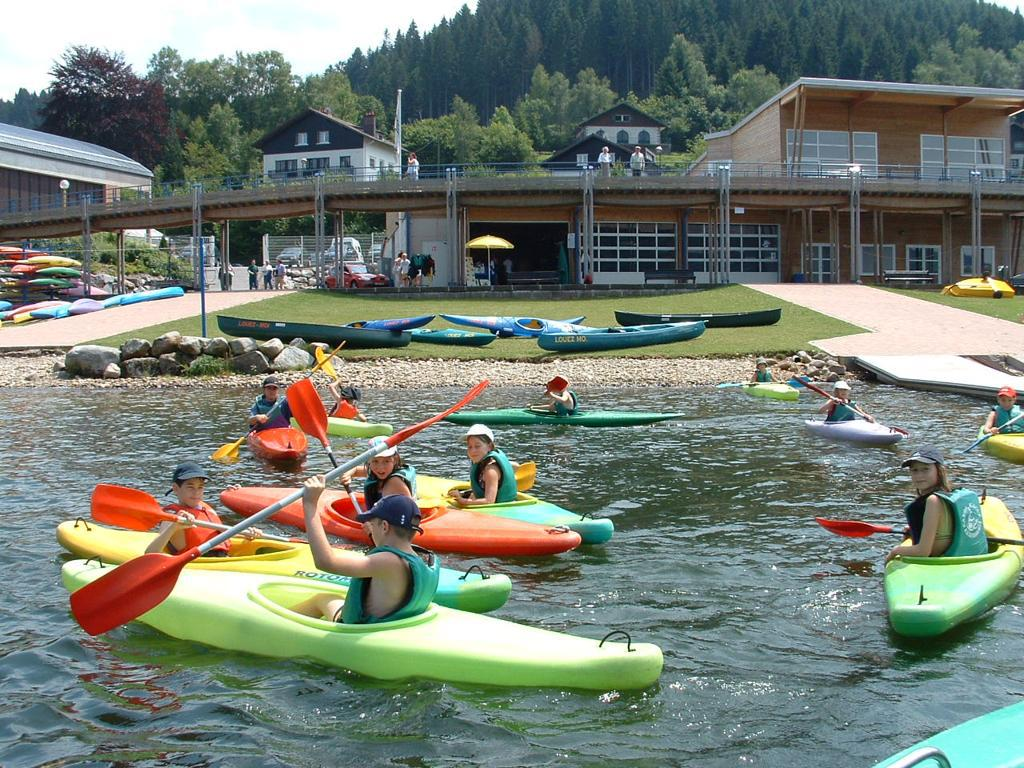face: (178, 478, 206, 506), (910, 463, 936, 491), (371, 456, 396, 480), (466, 437, 488, 463), (370, 517, 383, 546), (1000, 397, 1015, 411), (264, 386, 277, 399), (838, 389, 849, 399), (759, 363, 767, 371), (409, 155, 413, 160), (604, 149, 608, 153), (636, 148, 640, 152), (252, 261, 256, 265), (404, 255, 407, 259), (277, 261, 280, 264), (264, 262, 266, 266)
